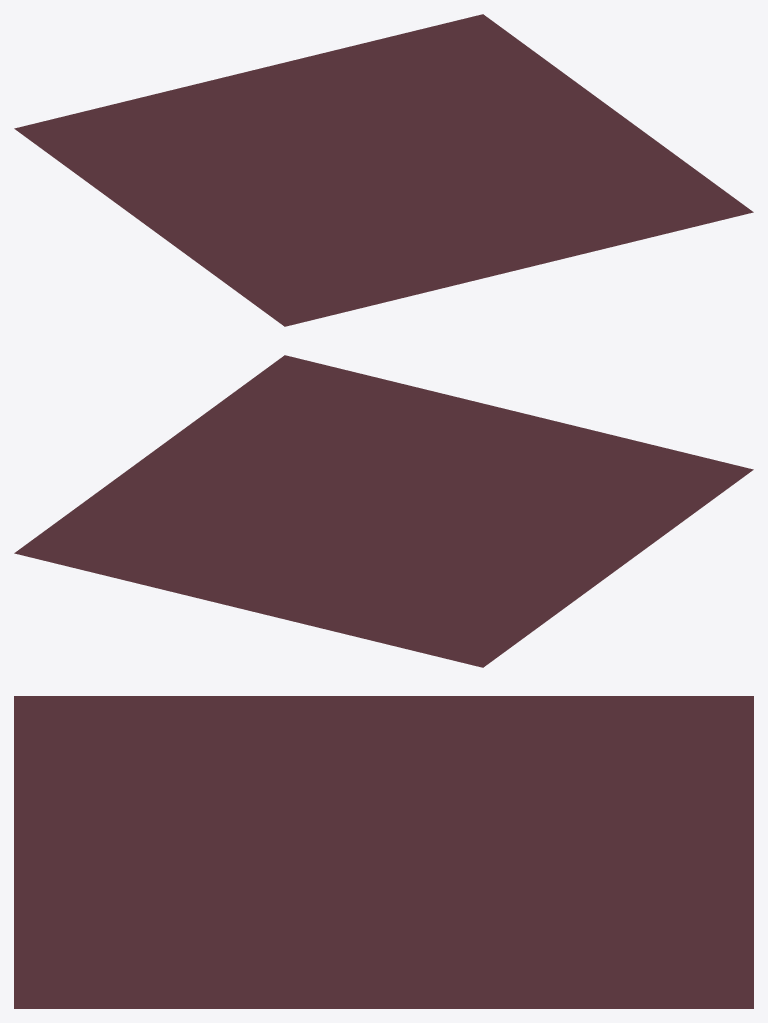
File: tiles-nb-tile-race-track-start-grid-nb.glb
3 views of the same model, one above another, from view 1: azimuth 30°, elevation 25°; view 2: azimuth 150°, elevation 25°; view 3: azimuth 270°, elevation 25° (orthographic). The views are drawn at different scales.
Visible parts, largest first — view 1: tile-race-track-start-grid-nb; view 2: tile-race-track-start-grid-nb; view 3: tile-race-track-start-grid-nb.
Boxes of the visible parts, <box> form: tile-race-track-start-grid-nb: <box>14,14,753,326</box>; tile-race-track-start-grid-nb: <box>14,355,753,667</box>; tile-race-track-start-grid-nb: <box>14,696,753,1008</box>.
Size of the model in its own units: 30 by 0 by 30.
